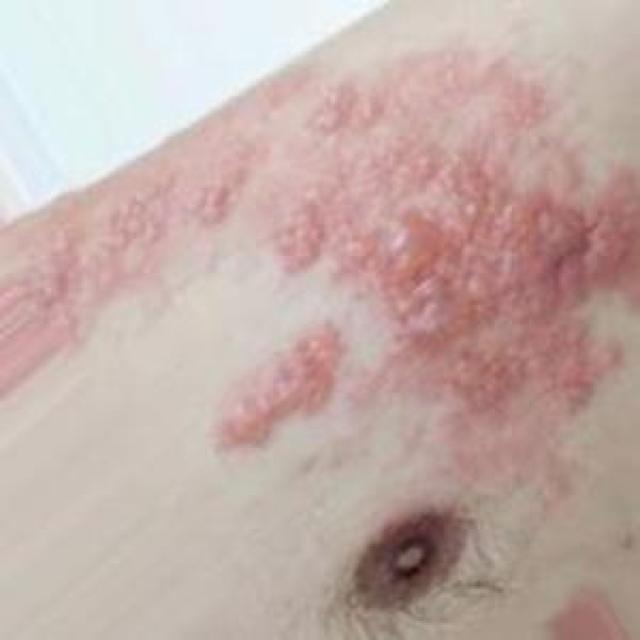Shingles: (96, 78, 629, 449)
